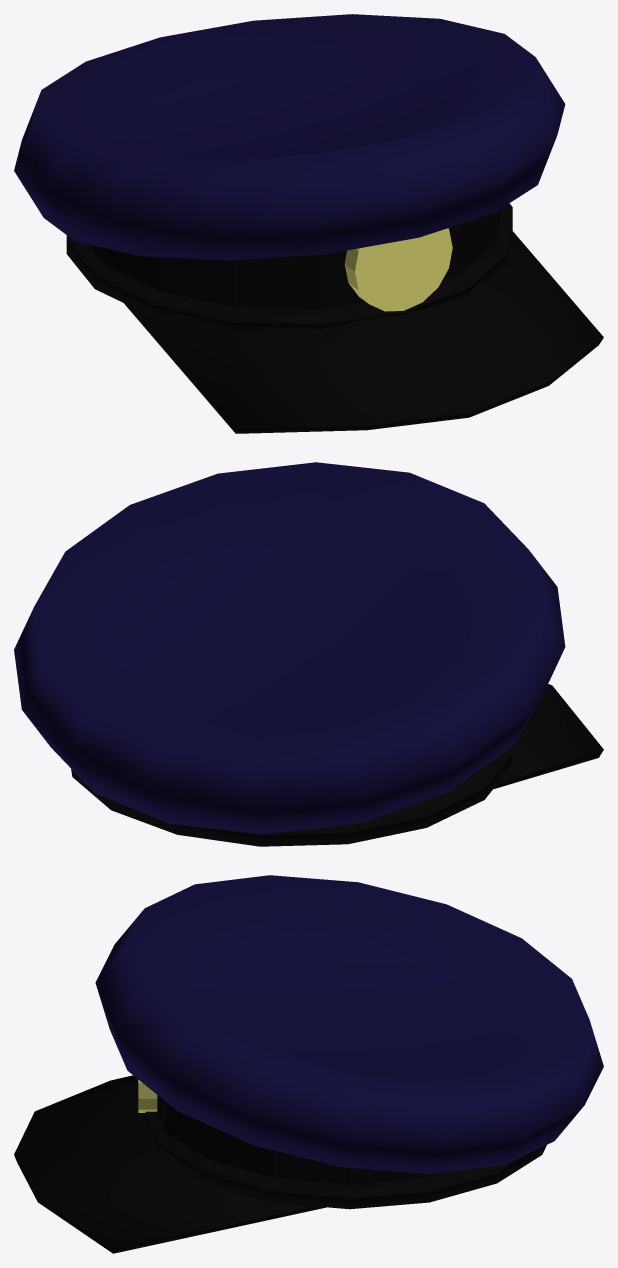
Rendered from 警察帽.fbx.
3 views of the same model, one above another, from view 1: azimuth 30°, elevation 25°; view 2: azimuth 150°, elevation 25°; view 3: azimuth 270°, elevation 25° (orthographic). The views are drawn at different scales.
Parts seen in each view (by area): view 1: Cylinder; view 2: Cylinder; view 3: Cylinder.
Boxes of the visible parts, box(x1,y1,x2,y2) form: Cylinder: box(14, 14, 603, 433); Cylinder: box(14, 462, 603, 846); Cylinder: box(14, 875, 603, 1253).
Bounding box in the file's own units: 261 × 127 × 298.
